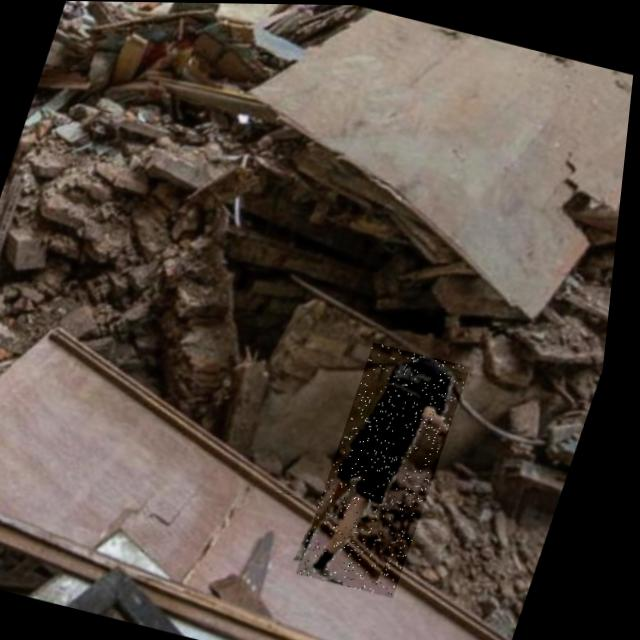Person in Rubble: (306, 340, 480, 597)
